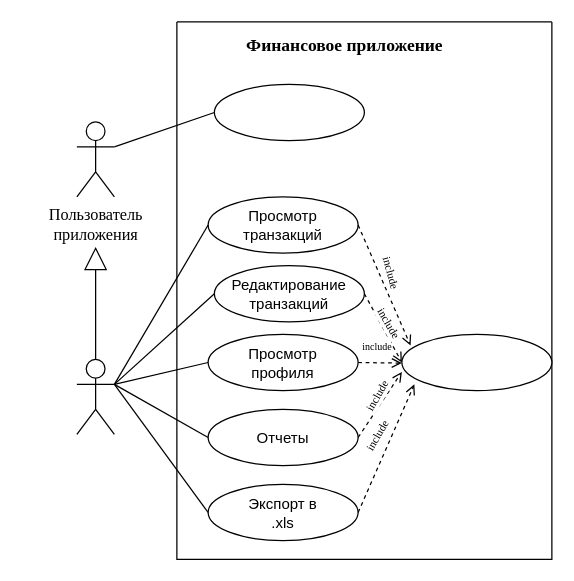
The diagram is 574 pixels wide and 581 high, and some of its shapes have lost their labels. The shapes that lost their labels are listed below. From the top down, each one's centre as x and y in pixels, then its label:
point 288,112: Регистрация
point 476,362: Вход
point 95,396: Зарегистрированный пользователь
